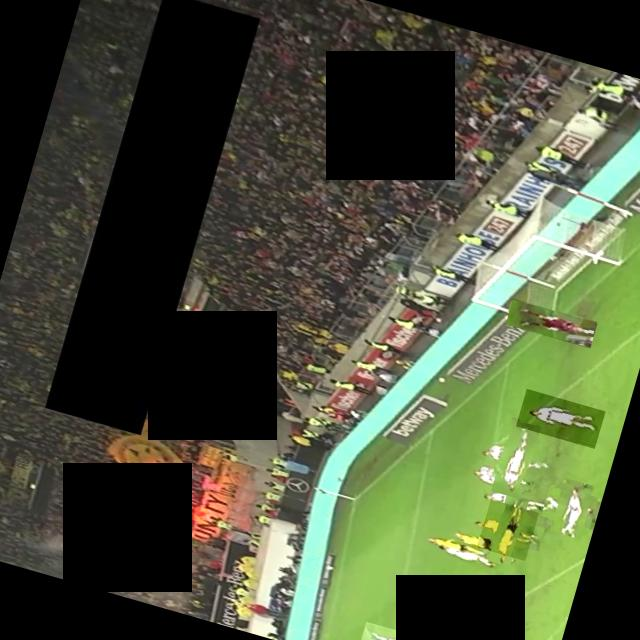goalkeeper: (504, 298, 596, 348)
referee: (463, 625, 556, 640)
soccer-player: (514, 388, 604, 448), (478, 422, 550, 493), (476, 498, 538, 560), (543, 480, 598, 535), (356, 621, 432, 640)
